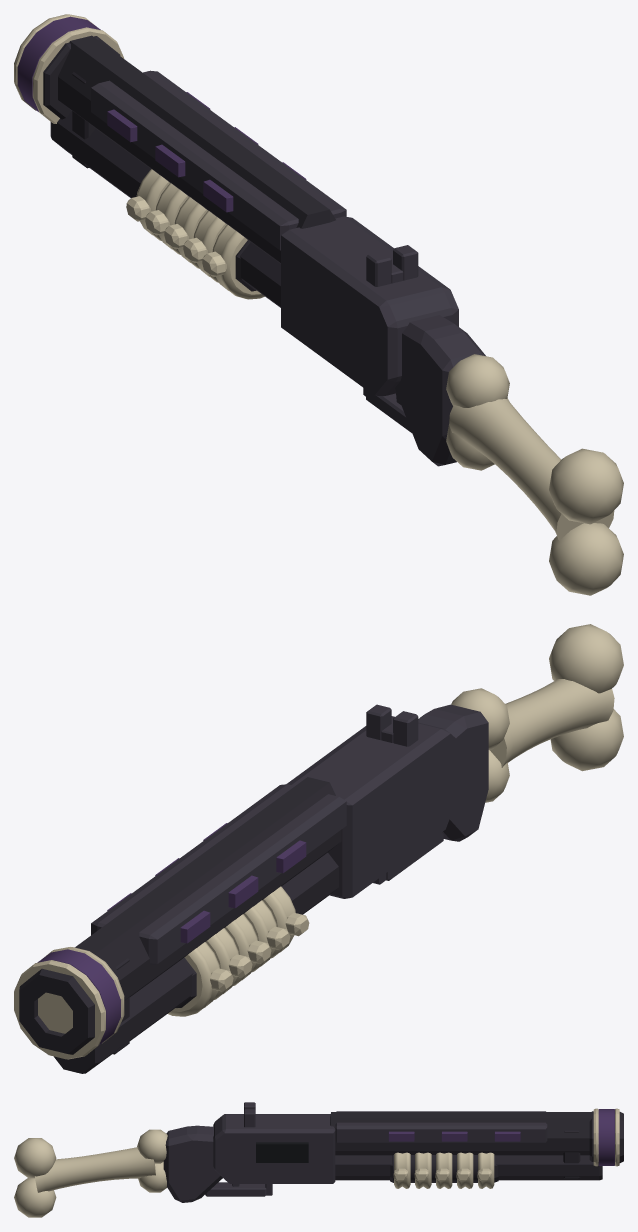
File: w_shotgun@shotgun_bone.glb
3 renders of one model, top to bottom at view 1: azimuth 30°, elevation 25°; view 2: azimuth 150°, elevation 25°; view 3: azimuth 270°, elevation 25°, orthographic. The views are drawn at different scales.
Parts seen in each view (by area): view 1: barrel_wzB, body_wzB, stock_wzA, shield_wzB, grip_wzB, pump_wzA, barrel_wzN.001, shield_wzN, barrel_wzN, sight_wzN; view 2: barrel_wzB, body_wzB, stock_wzA, shield_wzB, pump_wzA, grip_wzB, barrel_wzN.001, shield_wzN, barrel_wzN, sight_wzN; view 3: barrel_wzB, body_wzB, stock_wzA, shield_wzB, grip_wzB, pump_wzA, trim_wzN, barrel_wzN, shield_wzN, pump_wzB, barrel_wzN.001, sight_wzN.
Part boxes in pixels (x1,y1,x2,y2): barrel_wzB: (43,35,335,307); body_wzB: (281,216,458,432); stock_wzA: (446,354,623,595); shield_wzB: (91,70,346,250); grip_wzB: (395,315,485,466); pump_wzA: (126,169,264,299); barrel_wzN.001: (14,14,124,123); shield_wzN: (107,92,306,212); barrel_wzN: (17,16,100,111); sight_wzN: (366,245,418,286); barrel_wzB: (19,777,341,1073); body_wzB: (286,716,458,898); stock_wzA: (451,624,623,802); shield_wzB: (91,784,346,964); pump_wzA: (168,886,309,1016); grip_wzB: (418,704,488,841); barrel_wzN.001: (14,947,124,1059); shield_wzN: (107,823,306,943); barrel_wzN: (37,949,120,1044); sight_wzN: (366,704,418,746); barrel_wzB: (330,1111,623,1180); body_wzB: (205,1114,335,1196); stock_wzA: (14,1129,167,1217); shield_wzB: (335,1111,547,1142); grip_wzB: (163,1125,222,1202); pump_wzA: (393,1152,494,1188); trim_wzN: (256,1142,308,1162); barrel_wzN: (598,1109,614,1165); shield_wzN: (388,1131,520,1141); pump_wzB: (390,1155,498,1182); barrel_wzN.001: (593,1108,619,1166); sight_wzN: (244,1102,255,1127).
Bounding box in the file's own units: 0.118 × 0.2272 × 1.15.
